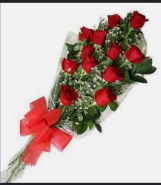RedRose: (60, 82, 78, 106), (103, 64, 124, 84), (93, 87, 115, 106), (126, 44, 145, 64), (60, 56, 80, 75), (131, 8, 147, 30), (106, 43, 123, 62), (90, 30, 108, 45), (84, 54, 97, 74), (107, 12, 121, 28)
